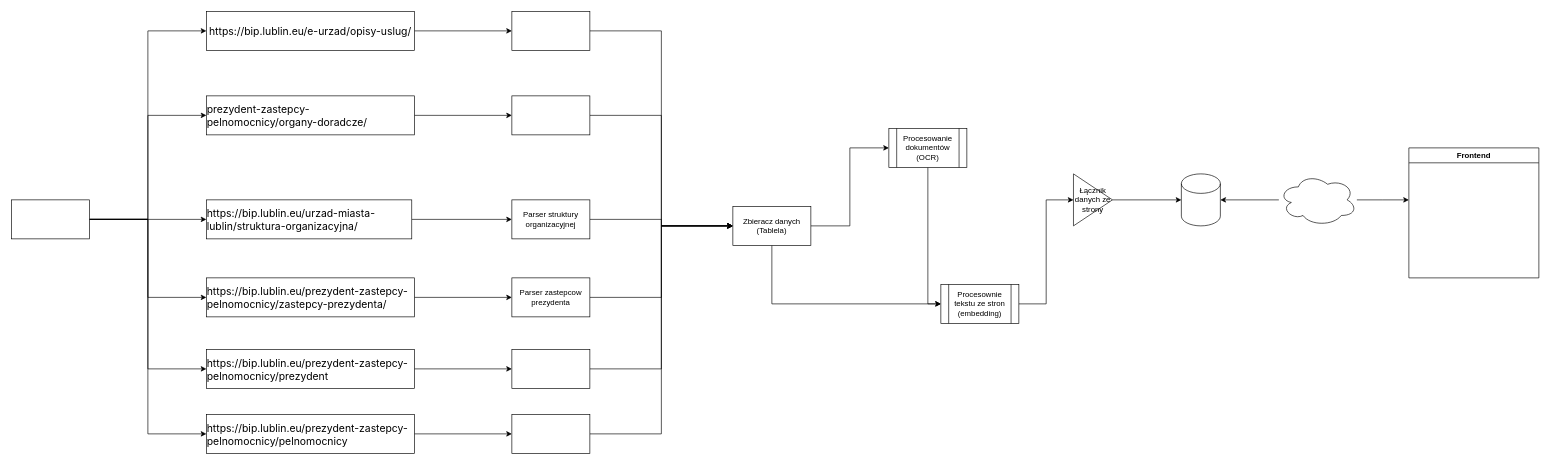
This 1550x465 diagram has some shape labels left out. Here are the shapes that lost their labels. From the top down, the centre of each, then its label:
At pixel 550 30: "Parser stron uslug".
At pixel 550 115: "Parser doradzcow".
At pixel 50 219: "Strona Gov.pl".
At pixel 1200 199: "RAG".
At pixel 1317 199: "Backend".
At pixel 550 368: "Parser prezydenta".
At pixel 550 433: "Parser pelnomocnicy".
